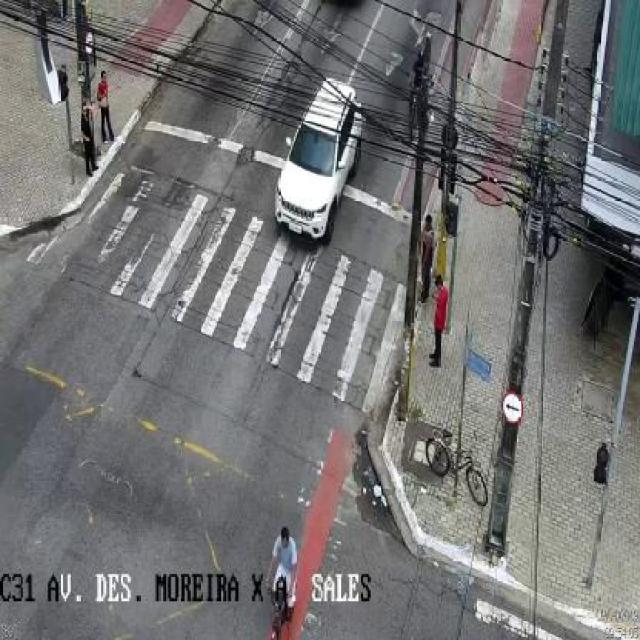car: (275, 79, 364, 243)
cyclist: (272, 526, 298, 632)
pedestrian: (429, 275, 449, 367), (420, 215, 435, 302)
